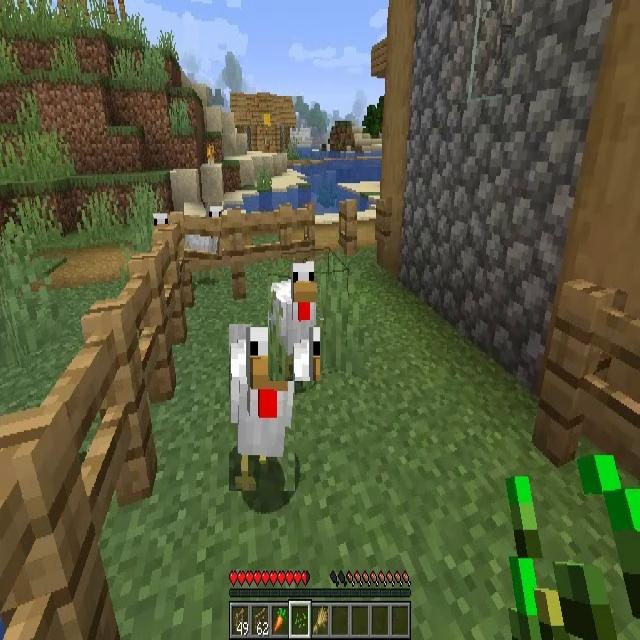duck: (230, 324, 296, 491), (268, 258, 320, 381), (184, 202, 222, 260), (152, 211, 179, 260)
